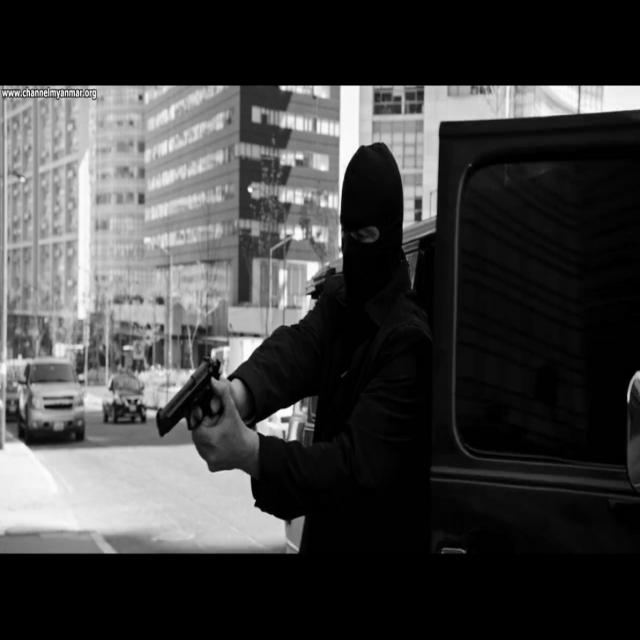gun: (156, 356, 222, 436)
